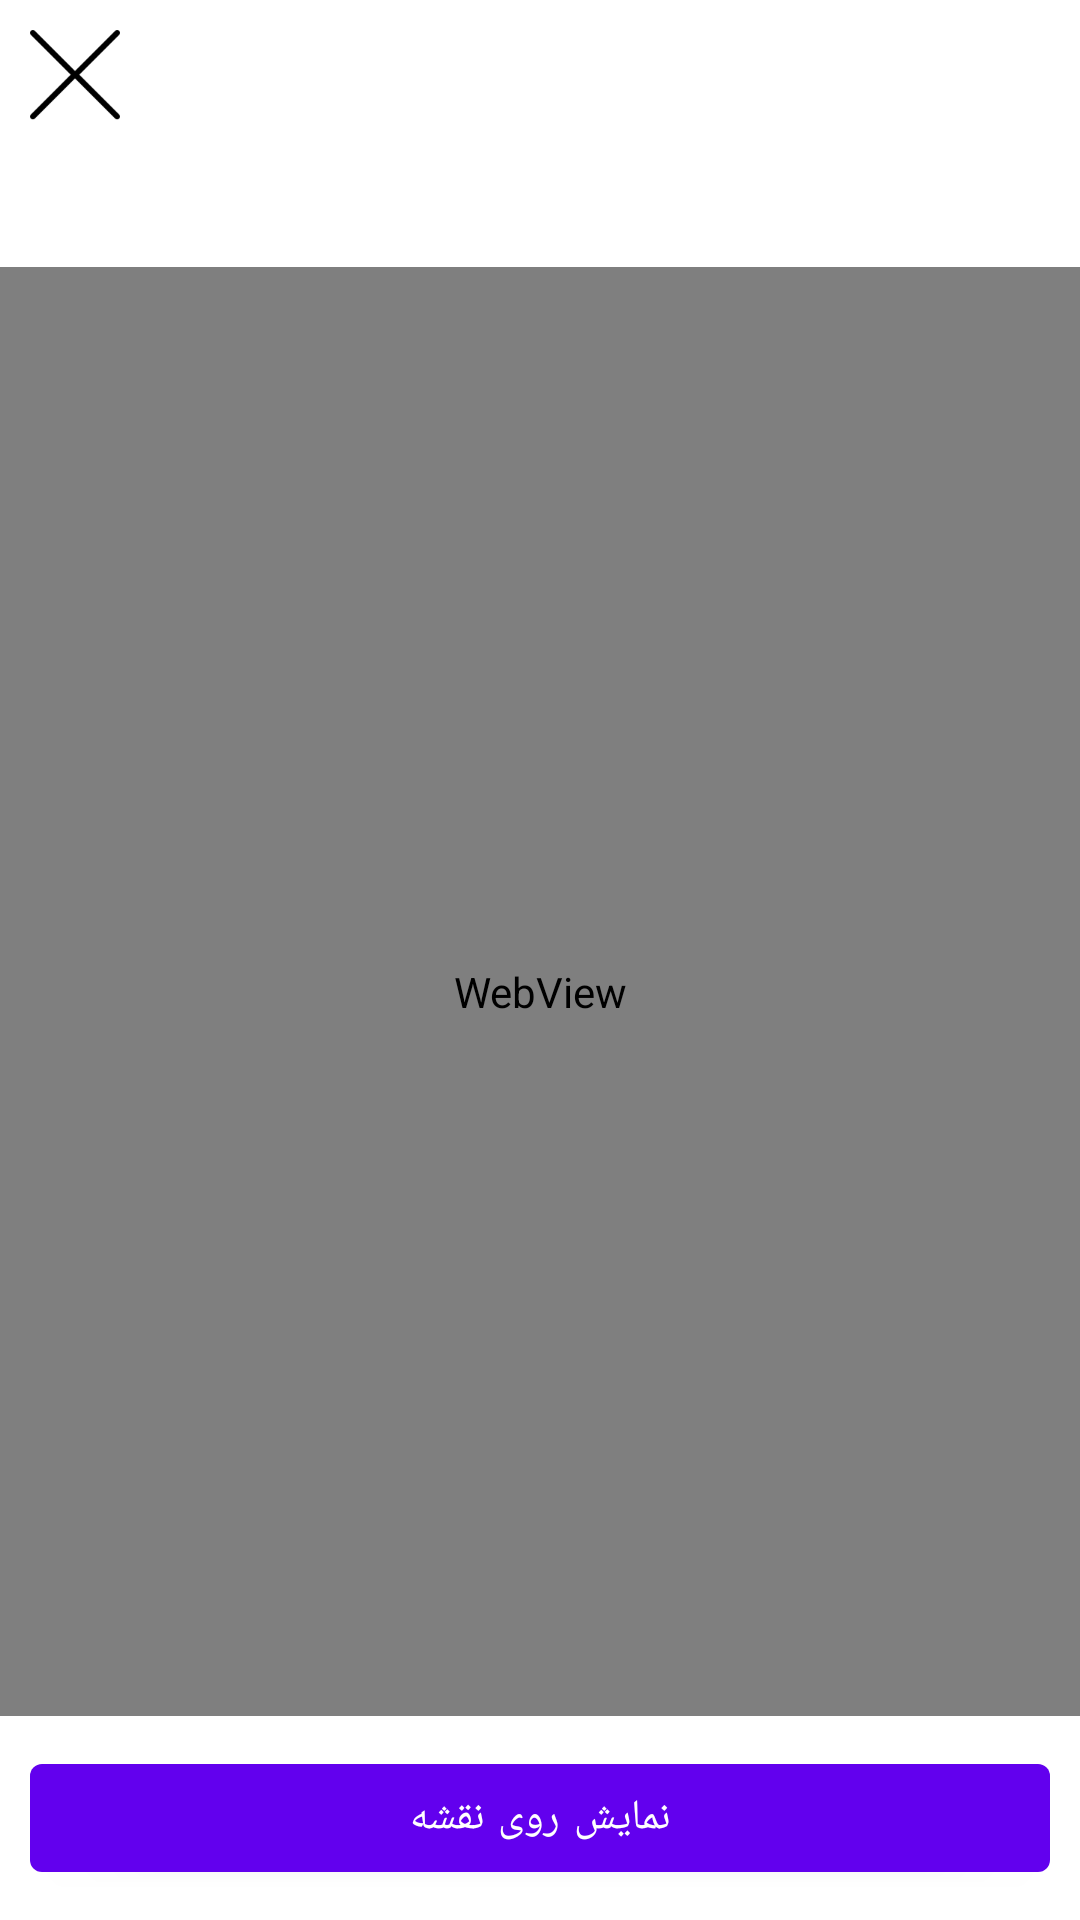

Where to tap for icons on this 1080 × 1920 app screen, as (x=x, y=y):
cancel: (x=75, y=75)
